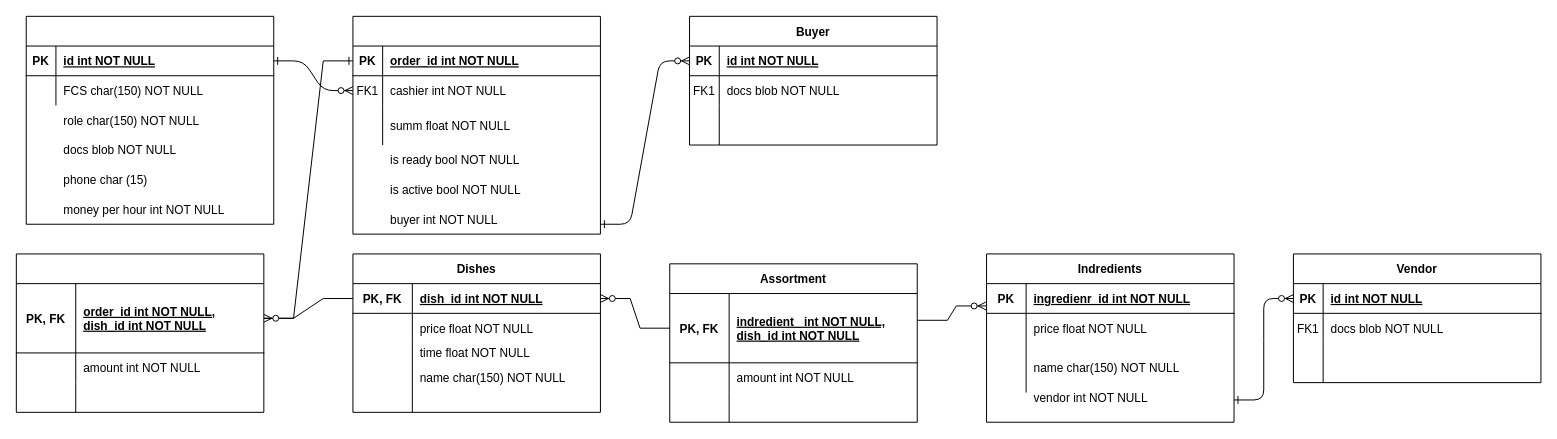
Image size: 1557x439. Some labels were removed from this diagram. The box of each missing label's shape, as (x1, y1, x2, y2) in pixels:
Cheque: (15, 253, 264, 412)
Employee: (25, 15, 274, 224)
Orders: (352, 15, 600, 234)
